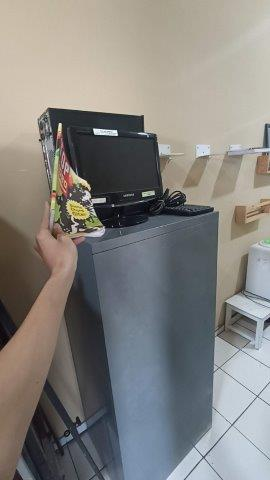kertas: (46, 122, 108, 252)
